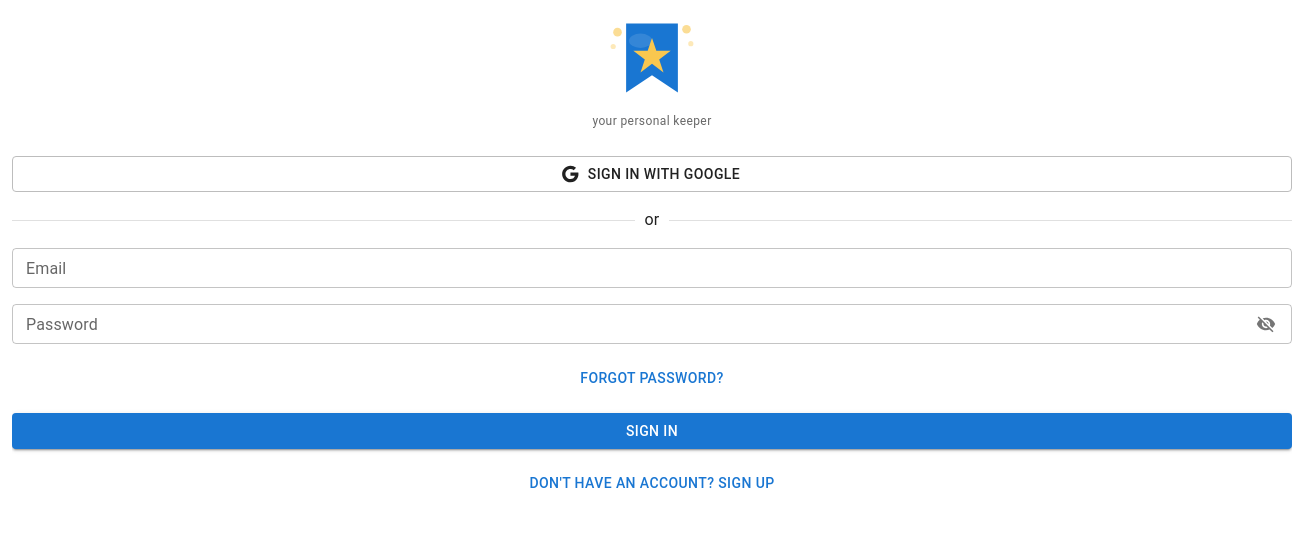
Test: LoginPage › shows an error when credentials are invalid
Click the button "Sign in" at x=652, y=431, box [12,413,1292,449]
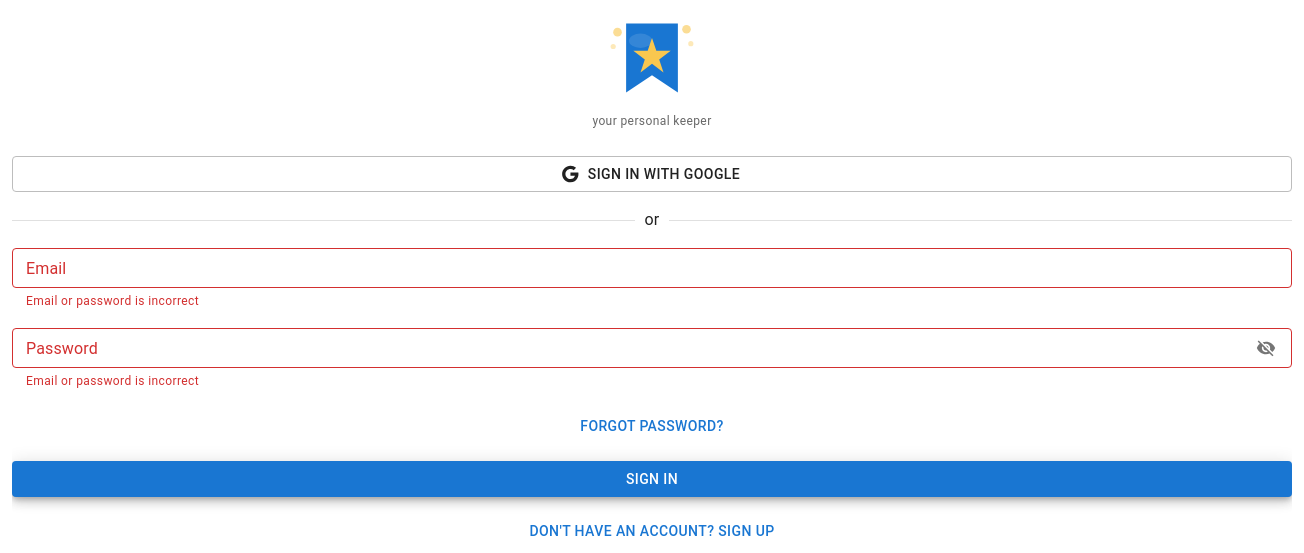
Expected: the text "Email or password is incorrect" is shown 2 times, [26,294,199,308]; [26,374,199,388]
